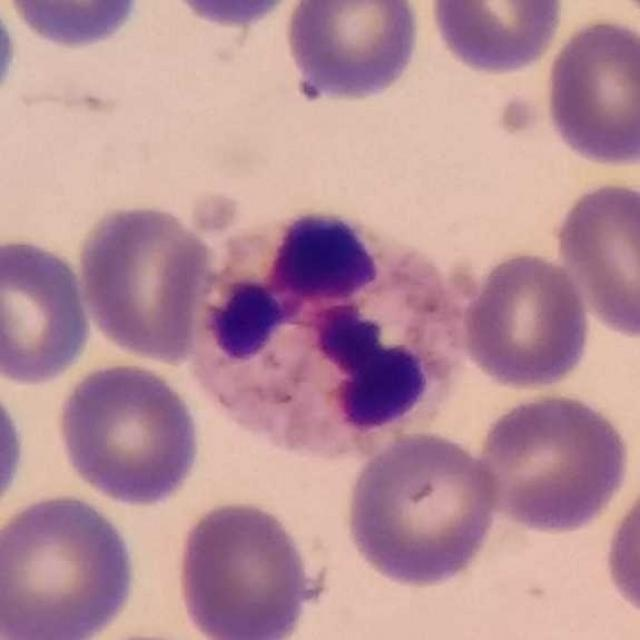Neutrophil: (175, 196, 477, 470)
Platelets: (499, 87, 541, 140)
RBC: (341, 427, 504, 590), (73, 198, 218, 365), (471, 388, 634, 536), (52, 358, 205, 509), (171, 496, 323, 640), (0, 489, 140, 640), (458, 247, 594, 393), (540, 13, 640, 170), (282, 0, 425, 105), (550, 176, 640, 342), (0, 234, 96, 386), (425, 0, 567, 78), (2, 0, 149, 53), (600, 471, 640, 625), (0, 374, 30, 528), (159, 0, 305, 31), (611, 0, 640, 39)
